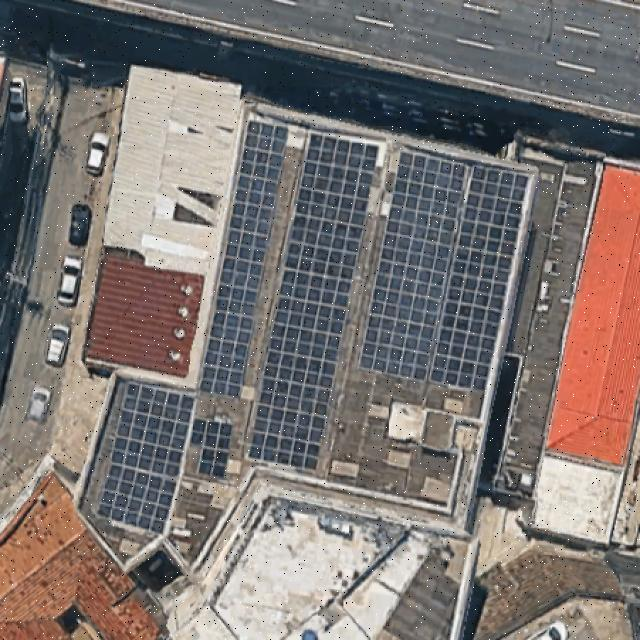painel: (361, 148, 537, 403), (249, 134, 378, 470), (201, 122, 288, 397), (100, 381, 194, 532), (193, 417, 232, 478)
